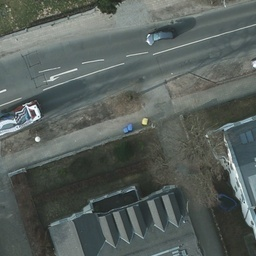car: (145, 26, 176, 48)
